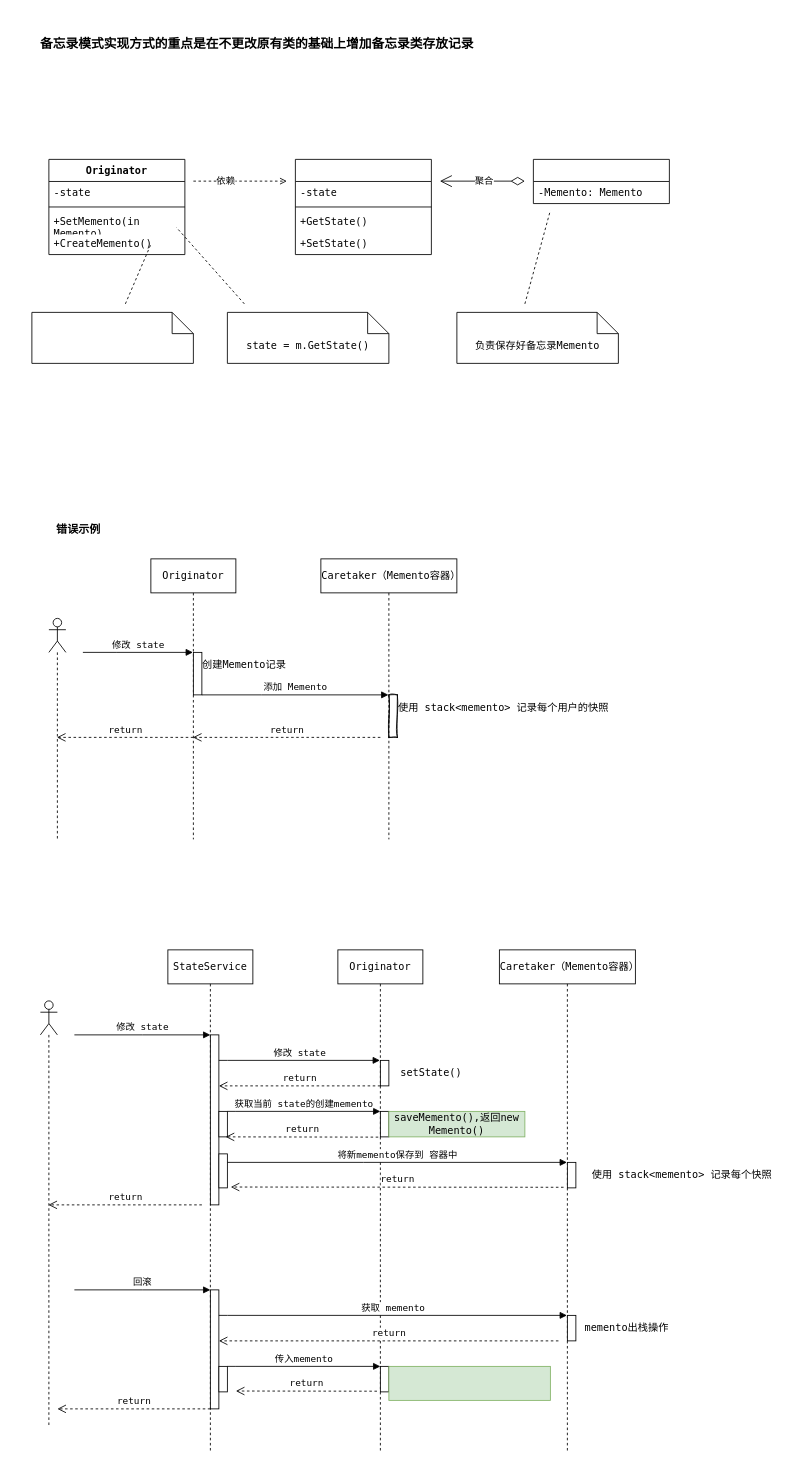
This 802x1466 diagram has some shape labels left out. The shapes that lost their labels are listed below. From the top down, each one's box as (x1, y1, x2, y2) in pixels, then its label:
(533, 159, 669, 204): Caretaker
(295, 159, 431, 255): Memento
(31, 312, 193, 363): return new Memento(state)
(388, 1366, 550, 1400): getMemento()，将memento.state赋值给state
